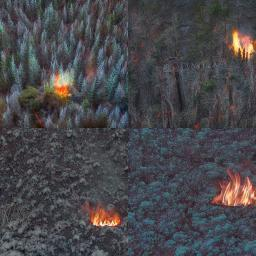Small fire: (206, 166, 256, 214), (227, 25, 256, 69), (85, 203, 125, 231), (45, 70, 75, 101)
